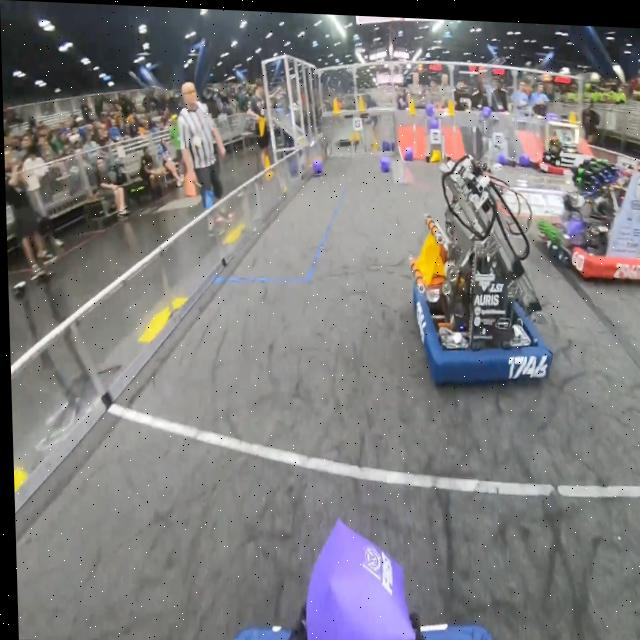robot: (407, 145, 554, 387), (534, 146, 640, 274), (537, 115, 581, 171)
